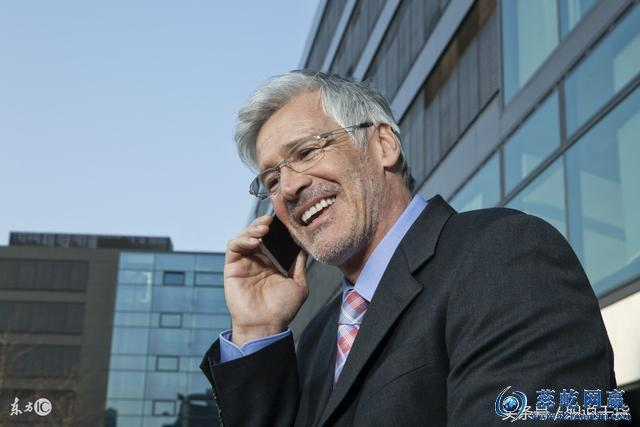calling: (221, 209, 311, 327)
